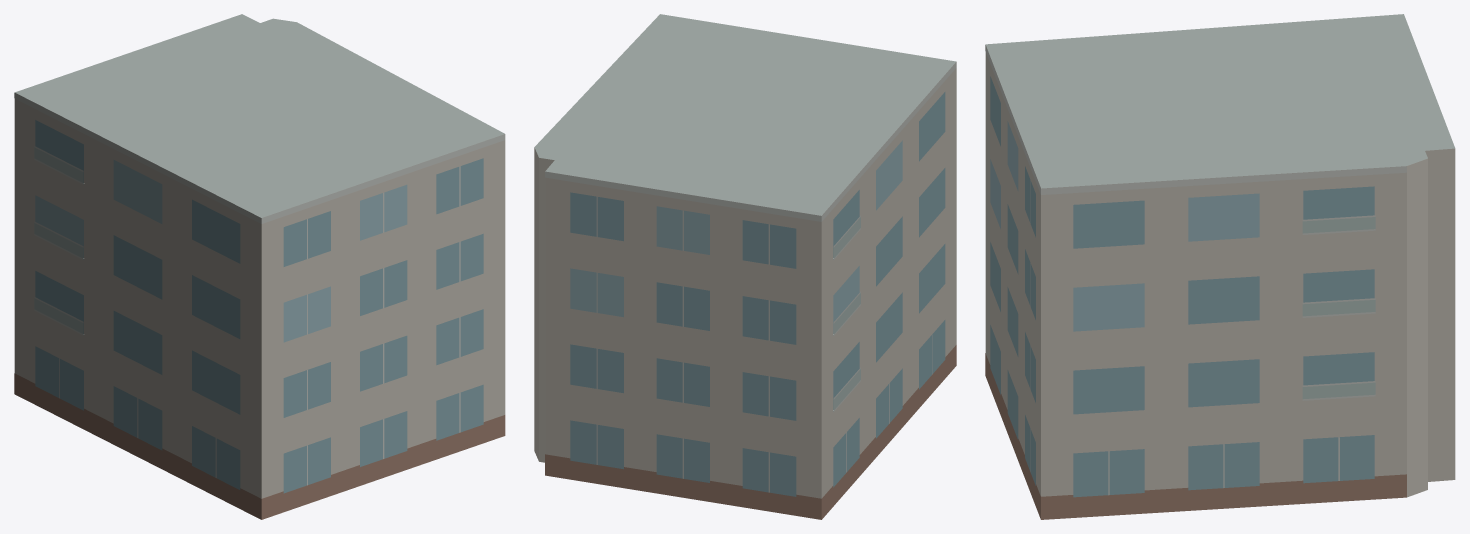
Rendered from survey-upis-32744292.glb.
The picture shows the model from 3 angles, left to right: view 1: azimuth 30°, elevation 25°; view 2: azimuth 150°, elevation 25°; view 3: azimuth 270°, elevation 25°; orthographic projection. The views are drawn at different scales.
Parts seen in each view (by area): view 1: survey-upis-32744292.tmp; view 2: survey-upis-32744292.tmp; view 3: survey-upis-32744292.tmp.
Part boxes in pixels (bbox=[...]): survey-upis-32744292.tmp: bbox=[14, 14, 505, 519]; survey-upis-32744292.tmp: bbox=[534, 14, 956, 519]; survey-upis-32744292.tmp: bbox=[985, 14, 1455, 519].
Size of the model in its own units: 13.78 by 12.2 by 15.69.
